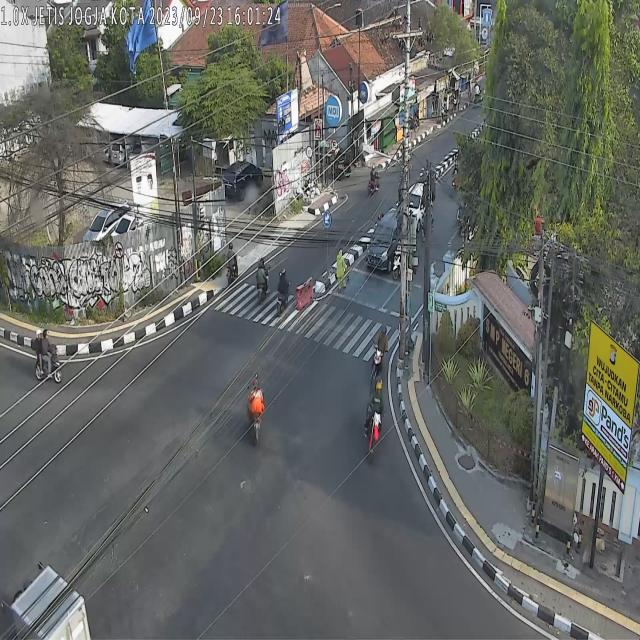car: (366, 208, 402, 273), (408, 182, 428, 230)
motorcycle: (245, 371, 266, 450), (365, 380, 384, 465), (34, 327, 62, 384), (368, 323, 389, 396), (277, 268, 291, 317), (256, 257, 270, 304), (226, 242, 239, 286), (392, 238, 402, 280), (368, 164, 380, 197)
